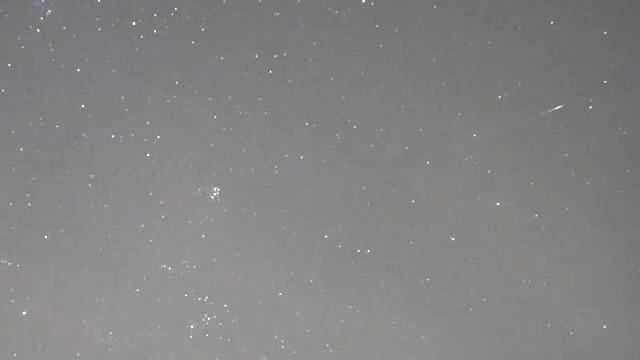meteorite: (479, 96, 568, 144)
